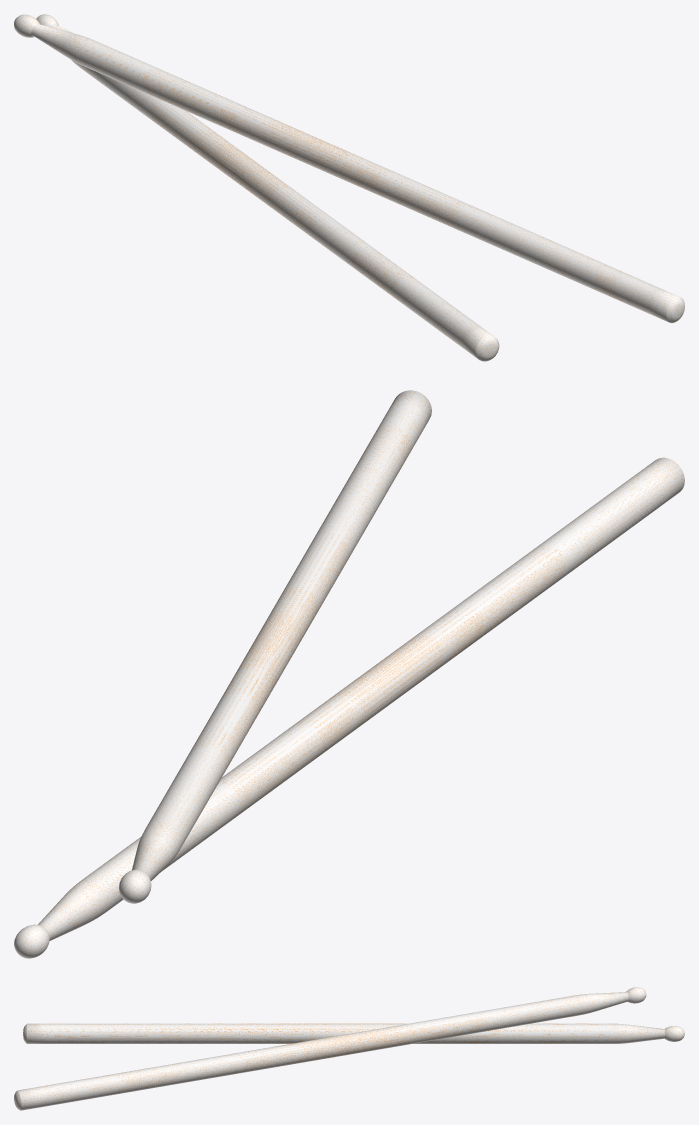
The model's file is drumsticks.dae.
3 views of the same model, one above another, from view 1: azimuth 30°, elevation 25°; view 2: azimuth 150°, elevation 25°; view 3: azimuth 270°, elevation 25° (orthographic). The views are drawn at different scales.
Visible parts, largest first — view 1: Drumstick (×2); view 2: Drumstick (×2); view 3: Drumstick (×2).
Boxes of the visible parts, x1,y1,x2,y2 form: Drumstick (×2): (14,14,684,361); Drumstick (×2): (14,390,684,958); Drumstick (×2): (14,987,684,1110).
Bounding box in the file's own units: 5.15 × 16.33 × 1.08.
